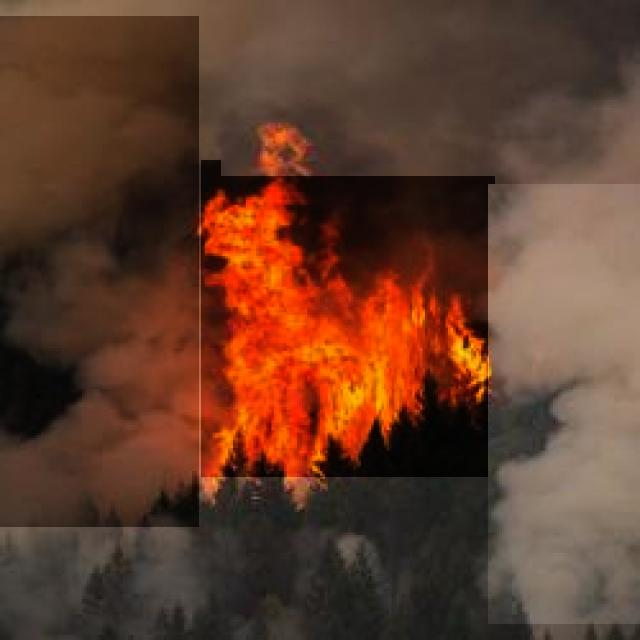Fire: (201, 160, 495, 477)
Smoke: (0, 16, 199, 527), (488, 184, 640, 624), (222, 14, 616, 176)
